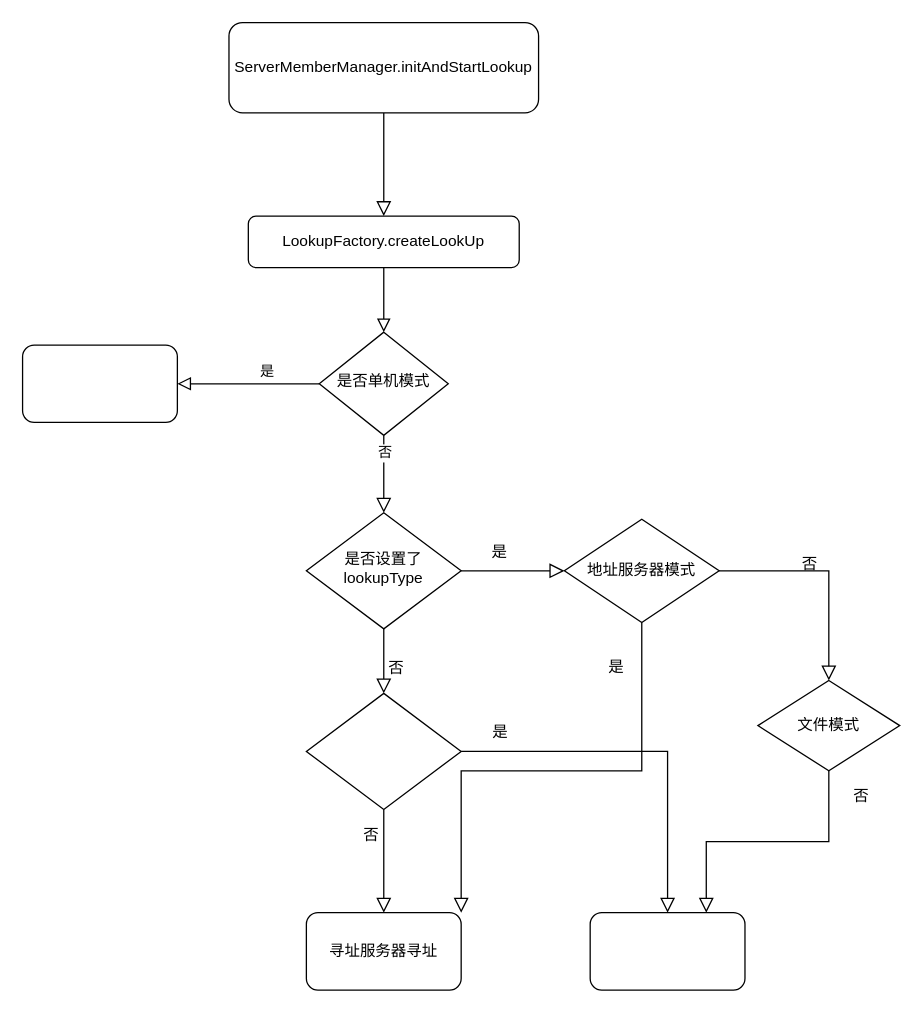
Image size: 922x1013. Some labels were removed from this diagram. Each missing label, with the centre of its shape:
使用本机地址: point (99, 383)
文件寻址: point (667, 950)
配置文件是否存在: point (383, 750)
